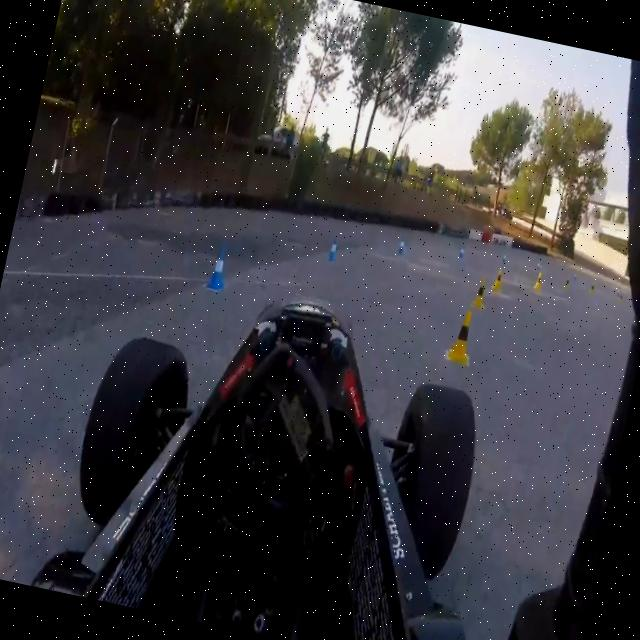blue_cone: (208, 242, 230, 292), (326, 235, 340, 263), (394, 234, 406, 257), (456, 241, 466, 260)
yellow_cone: (447, 308, 476, 366), (472, 276, 489, 313), (492, 268, 503, 291), (533, 270, 544, 290), (562, 272, 572, 292)
